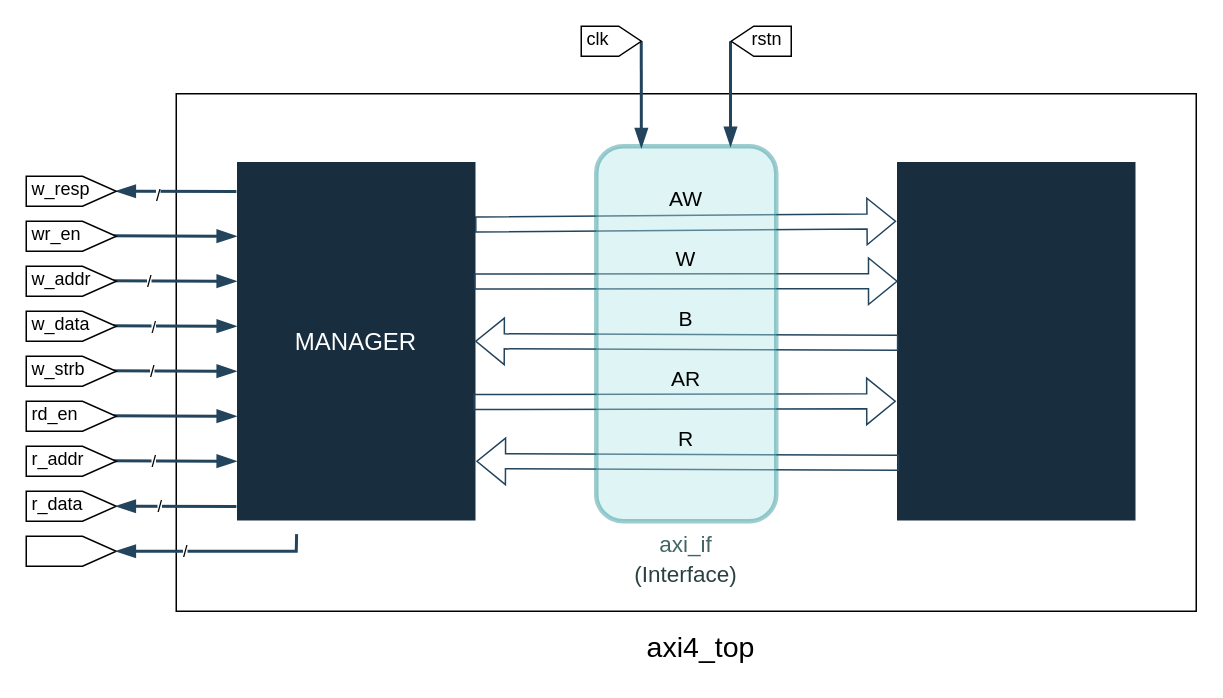
Some shapes in this 1223 by 698 pixel diagram are drawn without their labels. The shapes that lost their labels are listed below. From the top down, each one's box as (x1, y1, x2, y2) in pixels, then its label:
(895, 160, 1136, 521): SUBORDINATE
(25, 535, 116, 566): r_resp
